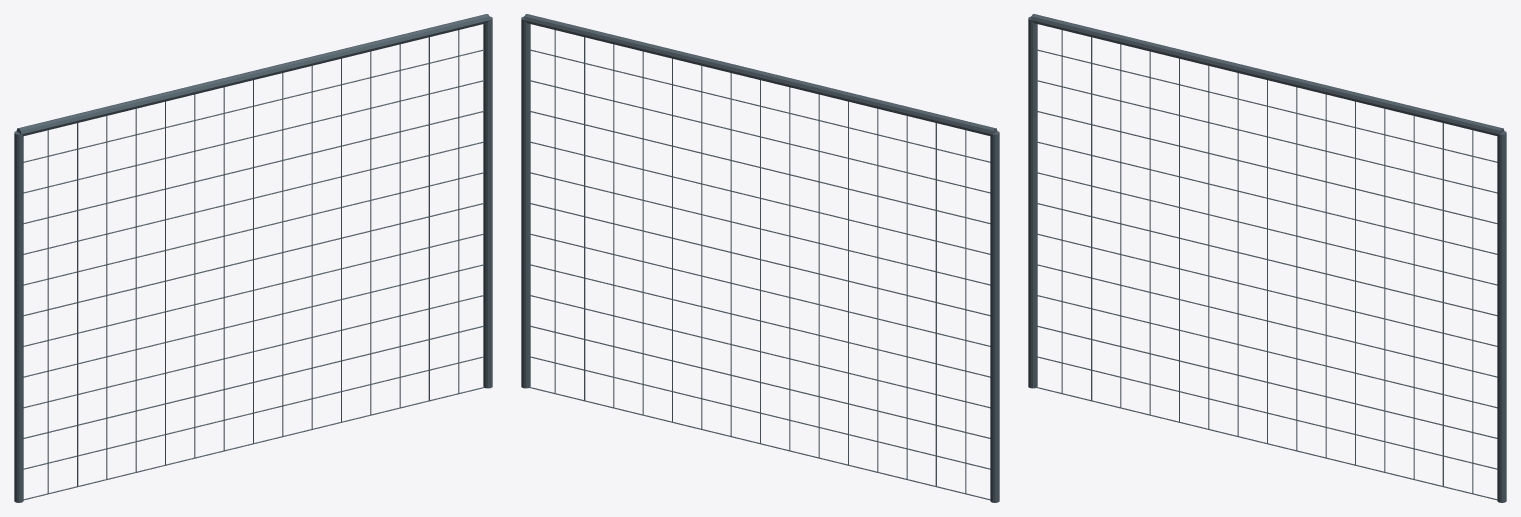
File: mesh-fence-panel-8586bfcb.glb
The picture shows the model from 3 angles, left to right: view 1: azimuth 30°, elevation 25°; view 2: azimuth 150°, elevation 25°; view 3: azimuth 330°, elevation 25°; orthographic projection.
Visible parts, largest first — view 1: mesh-fence-panel; view 2: mesh-fence-panel; view 3: mesh-fence-panel.
Part boxes in pixels (bbox=[...]): mesh-fence-panel: bbox=[14, 14, 492, 502]; mesh-fence-panel: bbox=[521, 14, 999, 502]; mesh-fence-panel: bbox=[1028, 14, 1506, 502].
Bounding box in the file's own units: 4.07 × 3.04 × 0.0701.
